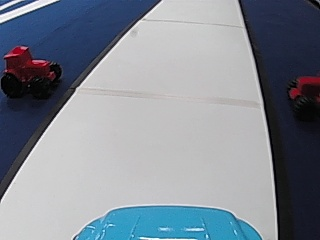tractor: (0, 44, 61, 99), (285, 71, 320, 121)
